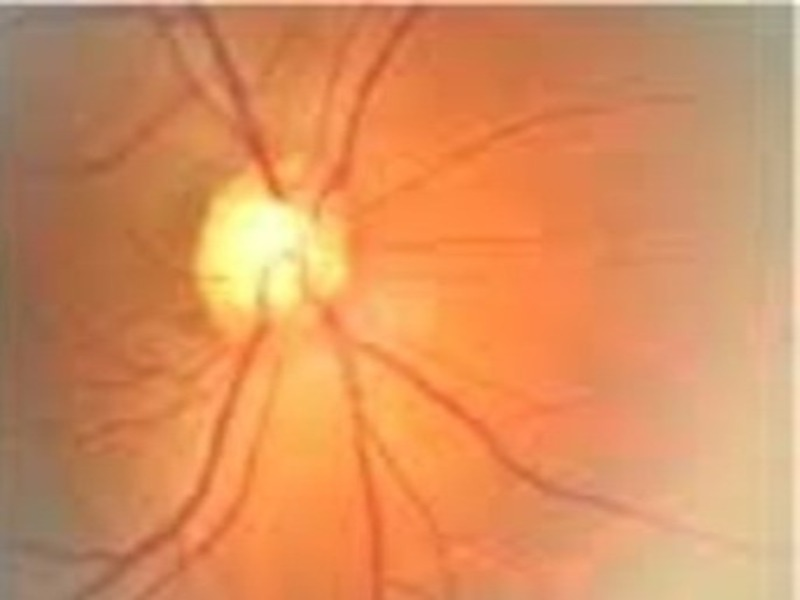Optic Cup: (197, 199, 339, 305)
Optic Disc: (192, 157, 362, 354)
